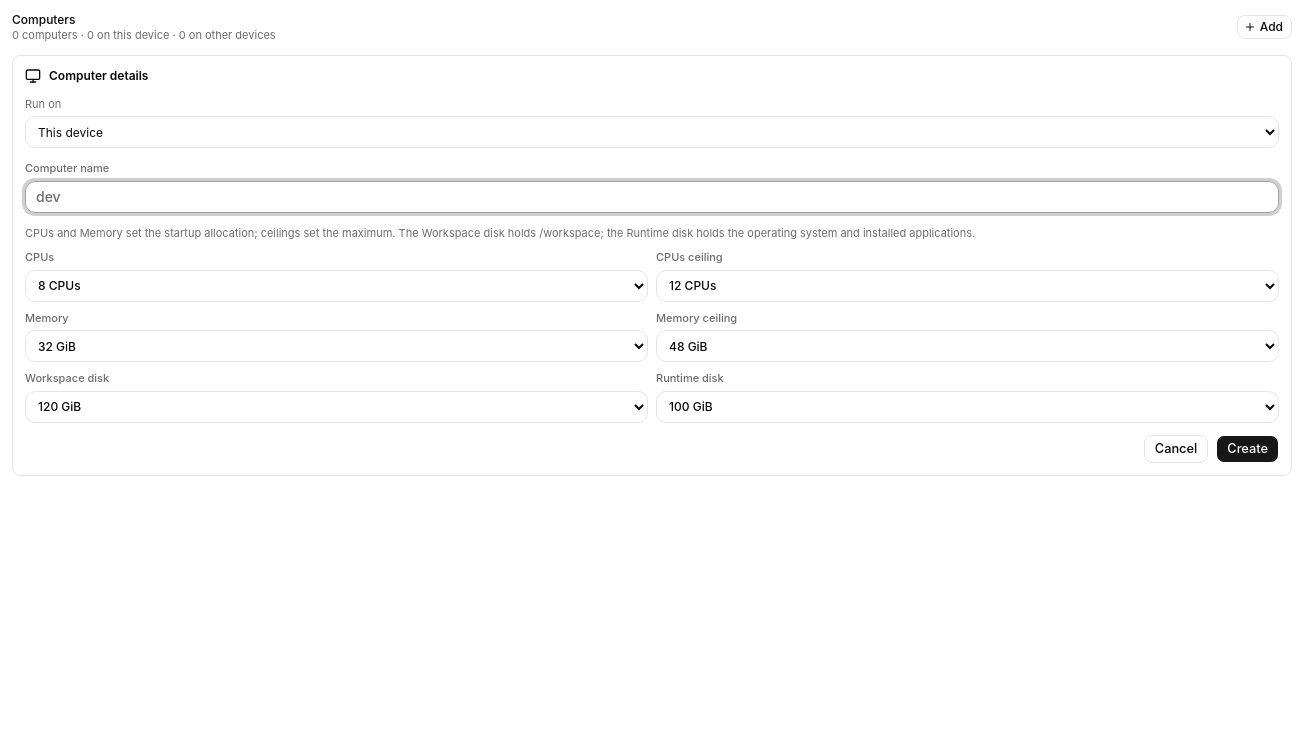
Scenario: creating a computer on the selected device › offers the optional desktop and says to update an older remote owner
This screenshot has width=1304, height=732.
Check: the checkbox labelled "Linux desktop" is not shown
Select "Linux box" in the dropdown labelled "Run on" at (652, 132), box [25, 116, 1279, 148]
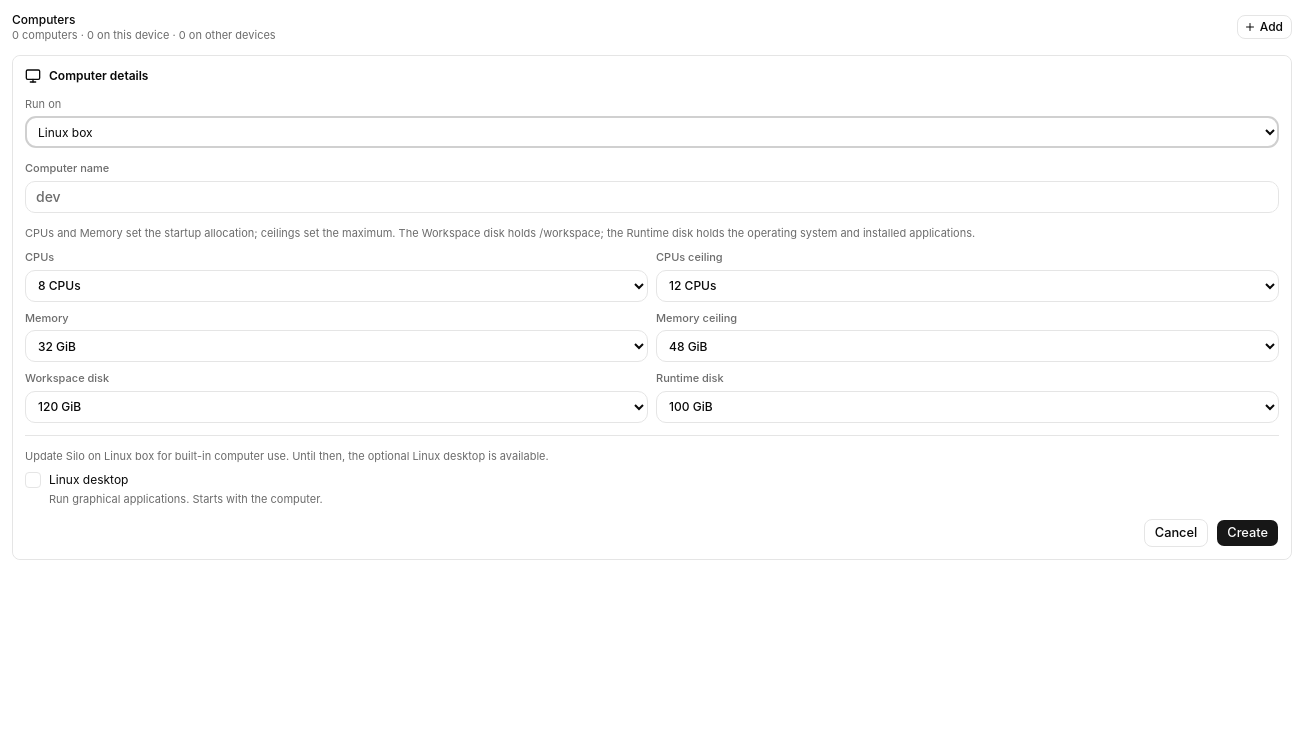
Check: the text "Update Silo on Linux box for built-in computer use" is shown, box [25, 449, 549, 463]
Check: the checkbox named "Linux desktop" is shown, box [25, 472, 41, 488]
